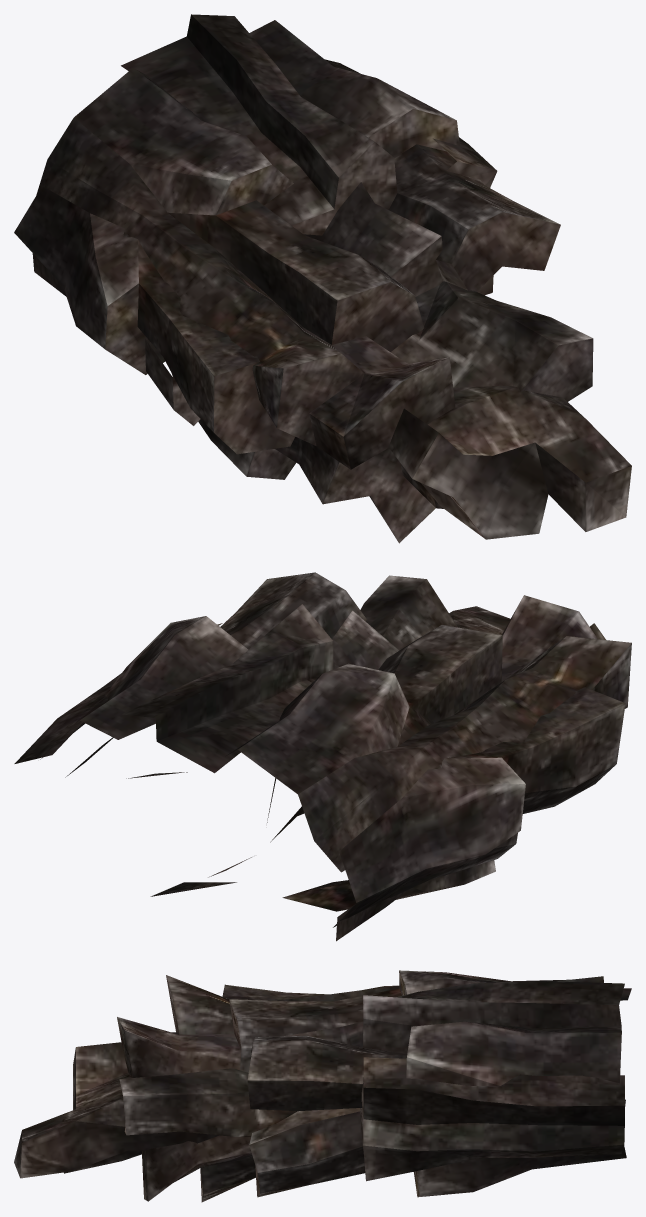
3 renders of one model, top to bottom at view 1: azimuth 30°, elevation 25°; view 2: azimuth 150°, elevation 25°; view 3: azimuth 270°, elevation 25°, orthographic. The views are drawn at different scales.
Parts seen in each view (by area): view 1: model_Object22; view 2: model_Object22; view 3: model_Object22.
Part boxes in pixels (box(x1,y1,x2,y2)): model_Object22: box(14, 14, 631, 543); model_Object22: box(14, 572, 631, 941); model_Object22: box(14, 970, 631, 1202).
Size of the model in its own units: 3.35 by 2.54 by 5.84.
3 materials, 3 textured.
